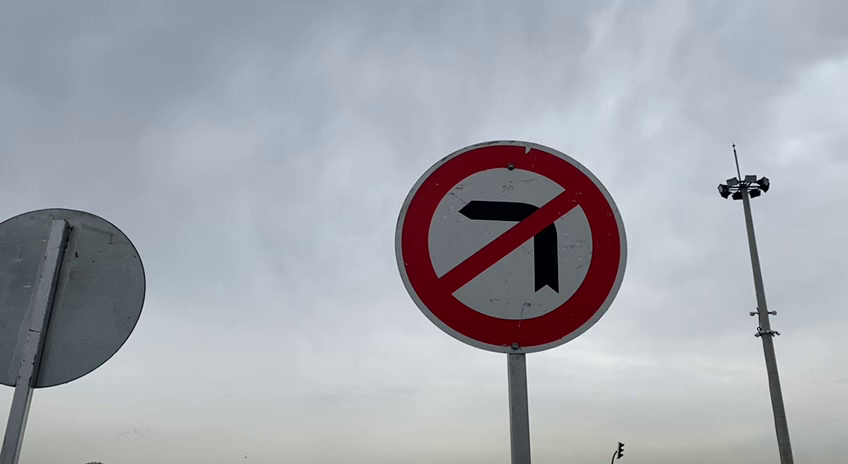noTurnLeft: (389, 133, 630, 356)
